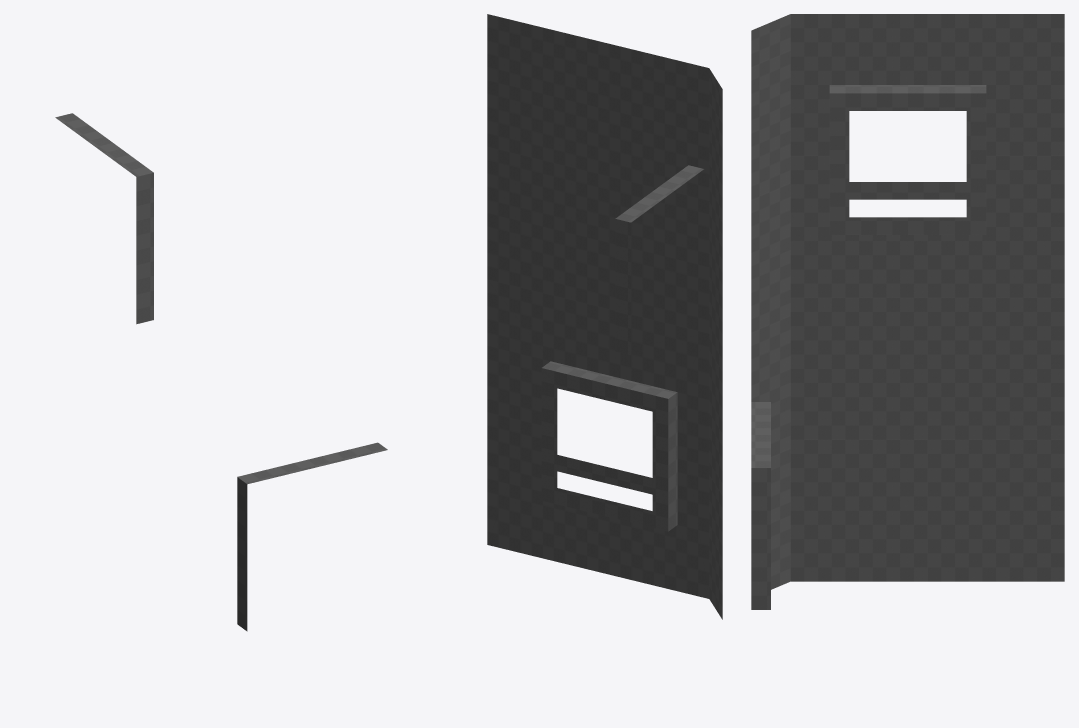
3 views of the same model, side by side, from view 1: azimuth 30°, elevation 25°; view 2: azimuth 150°, elevation 25°; view 3: azimuth 270°, elevation 25° (orthographic). The views are drawn at different scales.
Parts seen in each view (by area): view 1: CubeInBackRightV2; view 2: CubeInBackRightV2; view 3: CubeInBackRightV2.
Part boxes in pixels (box(x1,y1,x2,y2)): CubeInBackRightV2: box(55, 113, 387, 631); CubeInBackRightV2: box(487, 14, 722, 619); CubeInBackRightV2: box(751, 14, 1064, 609).
Bounding box in the file's own units: 2 × 4 × 2.
Materials: 1 (1 with a texture image).
